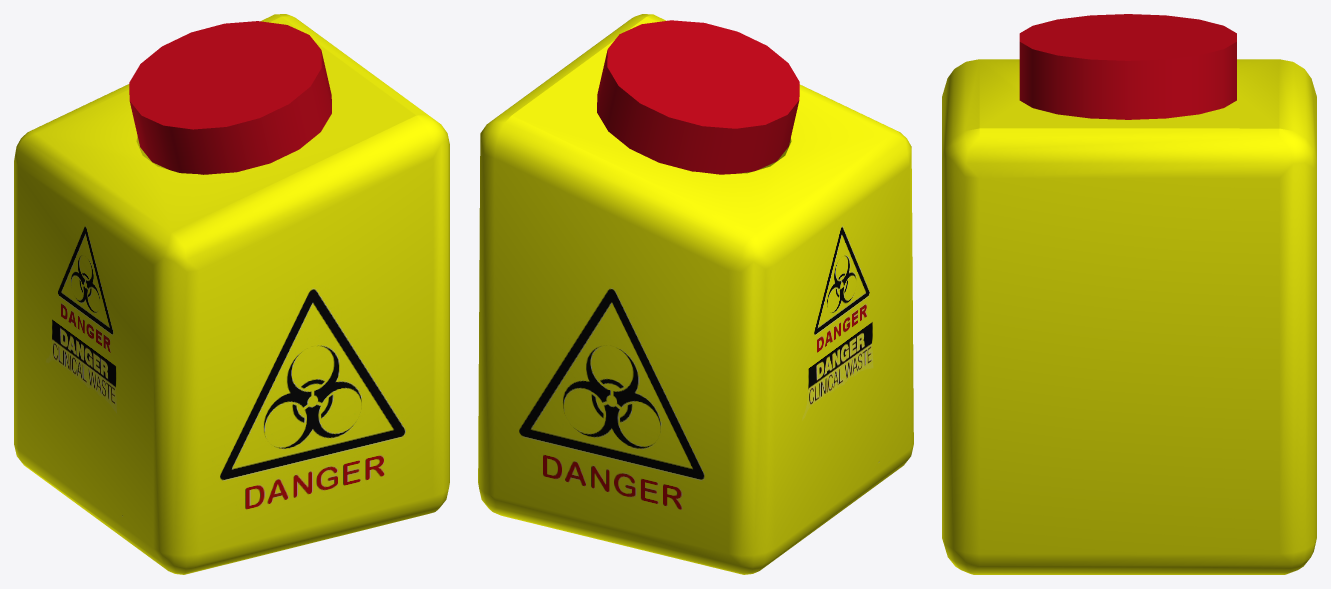
The model's file is Container 1.FBX.
3 views of the same model, side by side, from view 1: azimuth 30°, elevation 25°; view 2: azimuth 150°, elevation 25°; view 3: azimuth 270°, elevation 25° (orthographic). The views are drawn at different scales.
Visible parts, largest first — view 1: Container 1; view 2: Container 1; view 3: Container 1.
Boxes of the visible parts, <box> form: Container 1: <box>14,14,449,574</box>; Container 1: <box>478,14,913,574</box>; Container 1: <box>942,14,1316,574</box>.
Size of the model in its own units: 112 by 112 by 161.
Materials: 1 (1 with a texture image).
